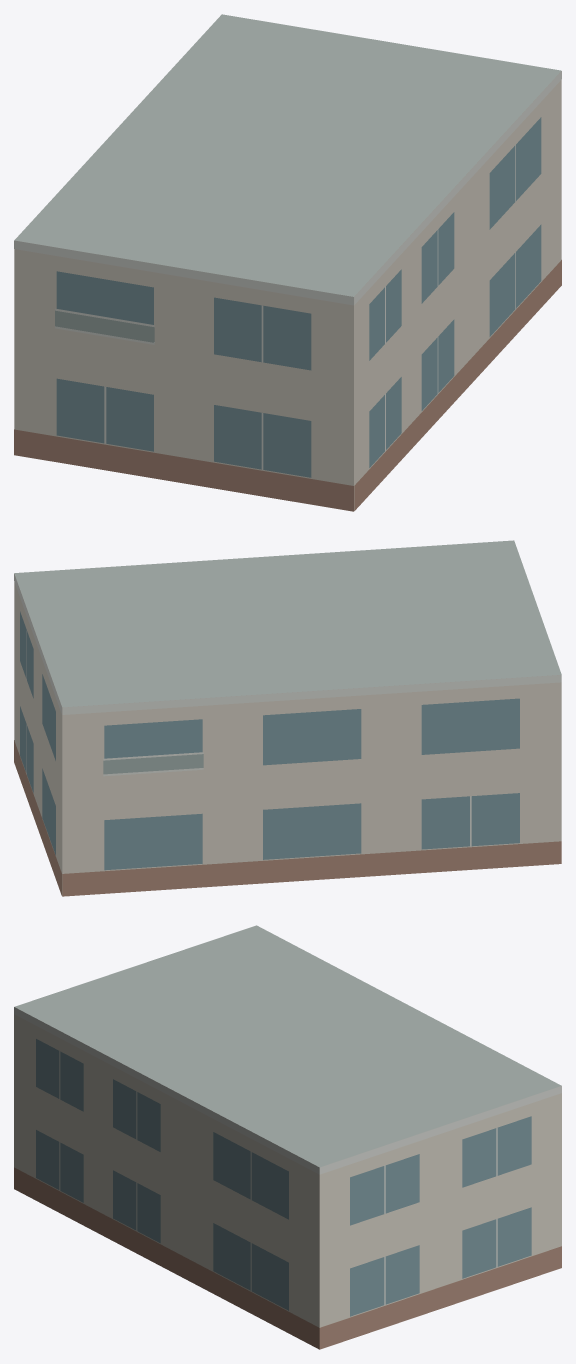
The model's file is survey-upis-33027001.glb.
The picture shows the model from 3 angles, top to bottom: view 1: azimuth 30°, elevation 25°; view 2: azimuth 150°, elevation 25°; view 3: azimuth 270°, elevation 25°; orthographic projection. The views are drawn at different scales.
Visible parts, largest first — view 1: survey-upis-33027001.tmp; view 2: survey-upis-33027001.tmp; view 3: survey-upis-33027001.tmp.
Part boxes in pixels (x1,y1,x2,y2): survey-upis-33027001.tmp: (14,14,561,511); survey-upis-33027001.tmp: (14,540,561,896); survey-upis-33027001.tmp: (14,925,561,1349).
Bounding box in the file's own units: 17.4 × 6.1 × 16.63.
